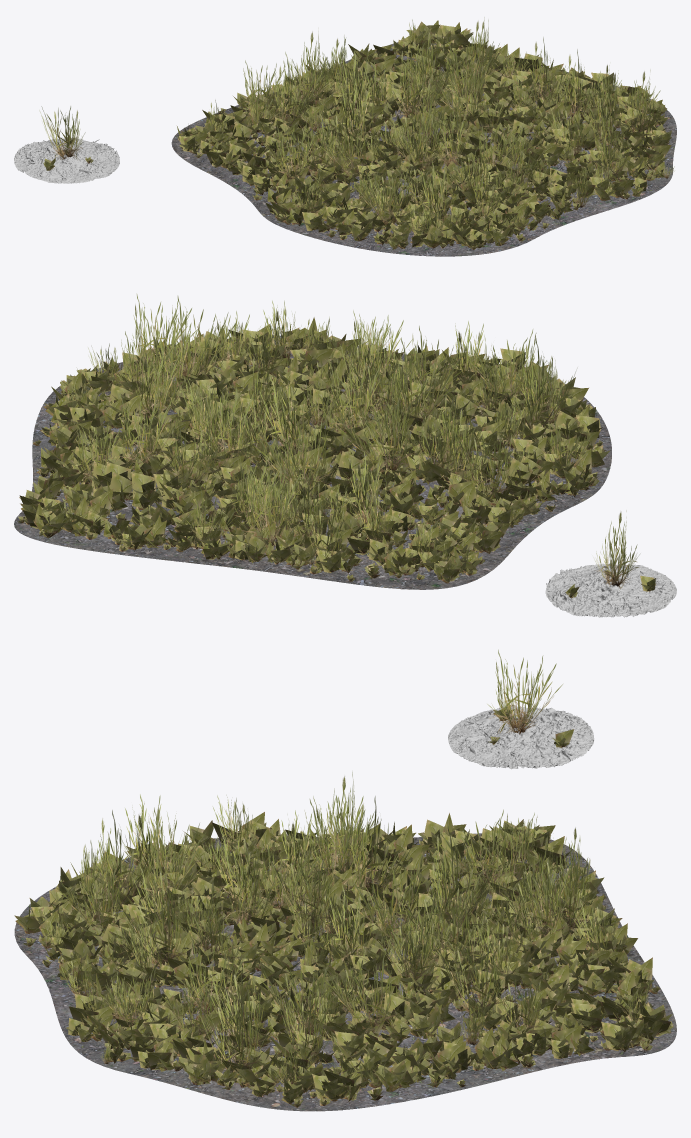
3 views of the same model, one above another, from view 1: azimuth 30°, elevation 25°; view 2: azimuth 150°, elevation 25°; view 3: azimuth 270°, elevation 25° (orthographic). The views are drawn at different scales.
Parts seen in each view (by area): view 1: Forest001, rostlinka_7c_scater, ground_close_04, rostlinka_07_ground_rostlinka_07_ground_0, rostlinka_07c; view 2: Forest001, rostlinka_7c_scater, ground_close_04, rostlinka_07_ground_rostlinka_07_ground_0, rostlinka_07c; view 3: Forest001, rostlinka_7c_scater, ground_close_04, rostlinka_07_ground_rostlinka_07_ground_0, rostlinka_07c.
Part boxes in pixels (bbox=[...]): Forest001: bbox=[177, 20, 671, 249]; rostlinka_7c_scater: bbox=[191, 17, 674, 234]; ground_close_04: bbox=[171, 42, 676, 256]; rostlinka_07_ground_rostlinka_07_ground_0: bbox=[14, 137, 119, 183]; rostlinka_07c: bbox=[39, 106, 85, 160]; Forest001: bbox=[17, 317, 609, 583]; rostlinka_7c_scater: bbox=[59, 293, 593, 567]; ground_close_04: bbox=[14, 335, 611, 589]; rostlinka_07_ground_rostlinka_07_ground_0: bbox=[545, 563, 676, 617]; rostlinka_07c: bbox=[595, 511, 638, 590]; Forest001: bbox=[14, 812, 673, 1107]; rostlinka_7c_scater: bbox=[45, 772, 652, 1087]; ground_close_04: bbox=[14, 833, 676, 1111]; rostlinka_07_ground_rostlinka_07_ground_0: bbox=[448, 705, 594, 769]; rostlinka_07c: bbox=[487, 649, 562, 734].
Bounding box in the file's own units: 3.75 × 0.7453 × 2.76.
